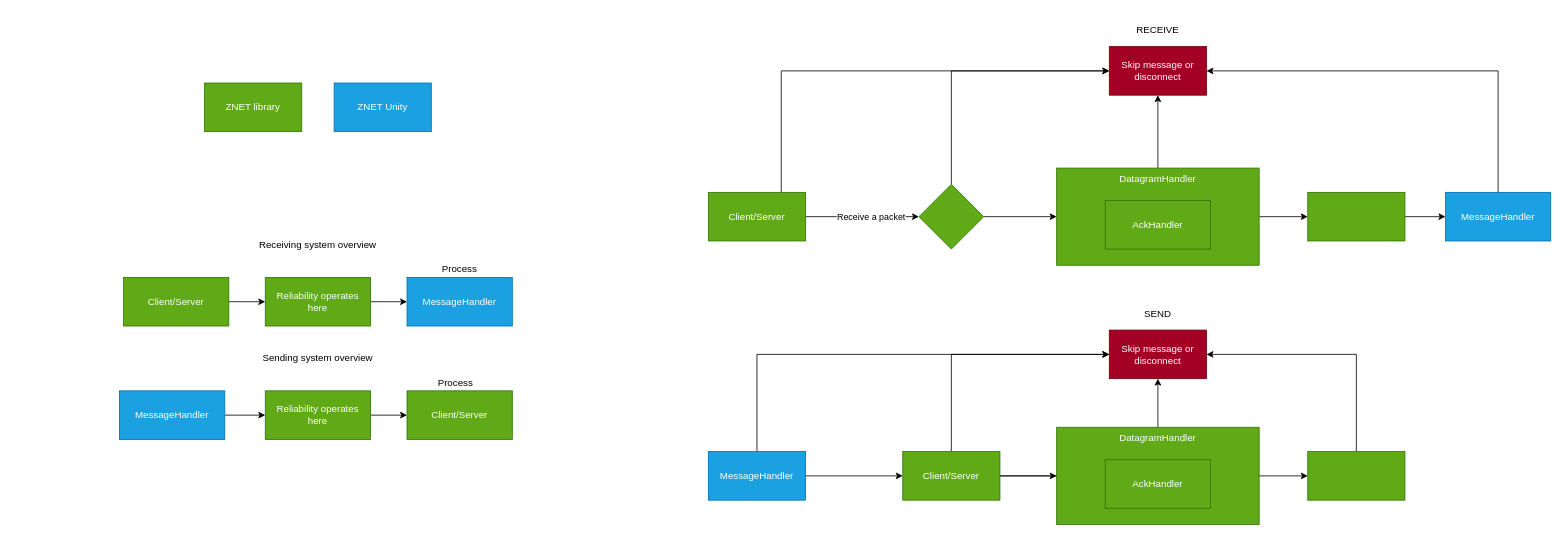
The diagram is 1565 pixels wide and 539 high, and some of its shapes have lost their labels. The shapes that lost their labels are listed below. From the top down, each one's centre as x and y in pixels, then its label:
[951,216]: Size > 0 ?
[1356,216]: ReceivingQueue
[1356,475]: SendingQueue
